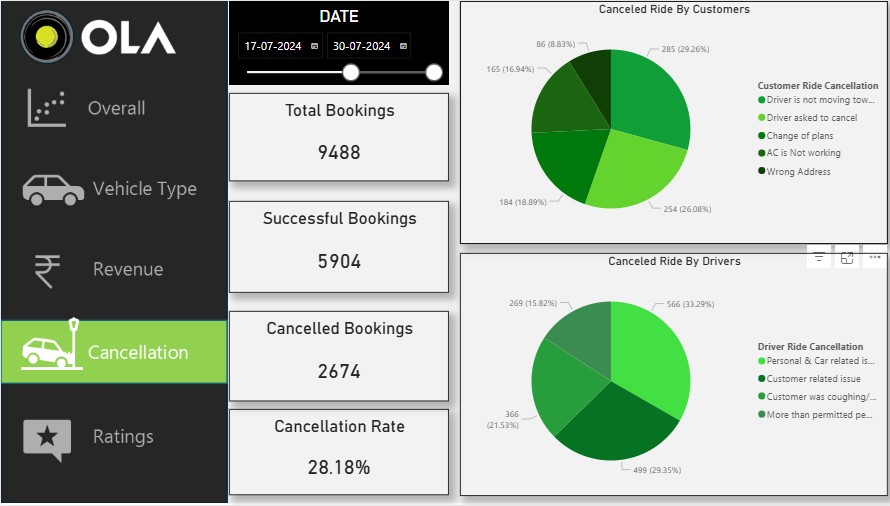

What the dashboard file says about the page in this screenshot:
{"tool":"powerbi","page":{"name":"Cancellation","canvas":[1280,720],"ordinal":3},"visuals":[{"type":"actionButton","box":[0,220.4,326.2,95.5],"z":0},{"type":"actionButton","box":[0,346.8,326.2,95.5],"z":1000},{"type":"actionButton","box":[0,571.6,326.2,95.5],"z":2000},{"type":"actionButton","box":[0,97,326.2,95.5],"z":3000},{"type":"pieChart","title":"Canceled Ride By Customers","fields":{"Y":["CountNonNull(bookings_cleaned.Canceled_Rides_by_Customer)"],"Category":["bookings_cleaned.Canceled_Rides_by_Customer"]},"box":[655.3,0,611.3,346.8],"z":3001},{"type":"pieChart","title":"Canceled Ride By Drivers","fields":{"Category":["bookings_cleaned.Canceled_Rides_by_Driver"],"Y":["CountNonNull(bookings_cleaned.Canceled_Rides_by_Driver)"]},"box":[655.3,360,611.3,346.8],"z":3002},{"type":"slicer","title":"DATE","fields":{"Values":["bookings_cleaned.Date"]},"box":[326.2,0,314.4,120.5],"z":3003},{"type":"card","title":"Total Bookings","fields":{"Values":["Count(bookings_cleaned.Booking_ID)"]},"box":[326.2,130.8,314.4,126.4],"z":3004},{"type":"card","title":"Successful Bookings","fields":{"Values":["Count(bookings_cleaned.Booking_ID)"]},"box":[326.2,285.1,314.4,130.8],"z":3005},{"type":"card","title":"Cancelled Bookings","fields":{"Values":["Count(bookings_cleaned.Booking_ID)"]},"box":[326.2,442.3,314.4,129.3],"z":3006},{"type":"card","title":"Cancellation Rate","fields":{"Values":["bookings_cleaned.CanceledPercentage"]},"box":[326.2,583.3,314.4,123.4],"z":3007}]}

Visuals, with their boxes in screenshot pixels (x1, y1, x2, y2), scaled from the page's 1280x720 canvas onto the 890x506 screenshot:
actionButton: l=0, t=155, r=227, b=222
actionButton: l=0, t=244, r=227, b=311
actionButton: l=0, t=402, r=227, b=469
actionButton: l=0, t=68, r=227, b=135
"Canceled Ride By Customers" pieChart: l=456, t=0, r=881, b=244
"Canceled Ride By Drivers" pieChart: l=456, t=253, r=881, b=497
"DATE" slicer: l=227, t=0, r=445, b=85
"Total Bookings" card: l=227, t=92, r=445, b=181
"Successful Bookings" card: l=227, t=200, r=445, b=292
"Cancelled Bookings" card: l=227, t=311, r=445, b=402
"Cancellation Rate" card: l=227, t=410, r=445, b=497
